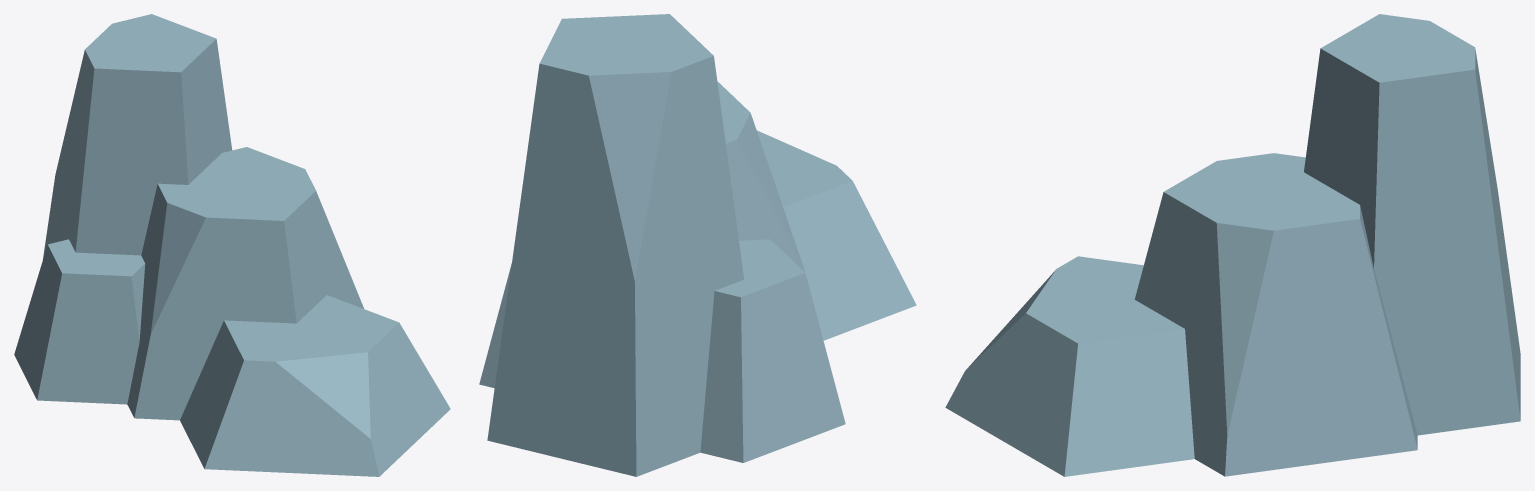
Rendered from rockWide.obj.
3 renders of one model, left to right at view 1: azimuth 30°, elevation 25°; view 2: azimuth 150°, elevation 25°; view 3: azimuth 270°, elevation 25°, orthographic. The views are drawn at different scales.
Visible parts, largest first — view 1: rockWide; view 2: rockWide; view 3: rockWide.
Part boxes in pixels (x1,y1,x2,y2): rockWide: [14, 14, 450, 476]; rockWide: [479, 14, 916, 476]; rockWide: [945, 14, 1520, 476].
Size of the model in its own units: 1.09 by 1.02 by 1.57.
